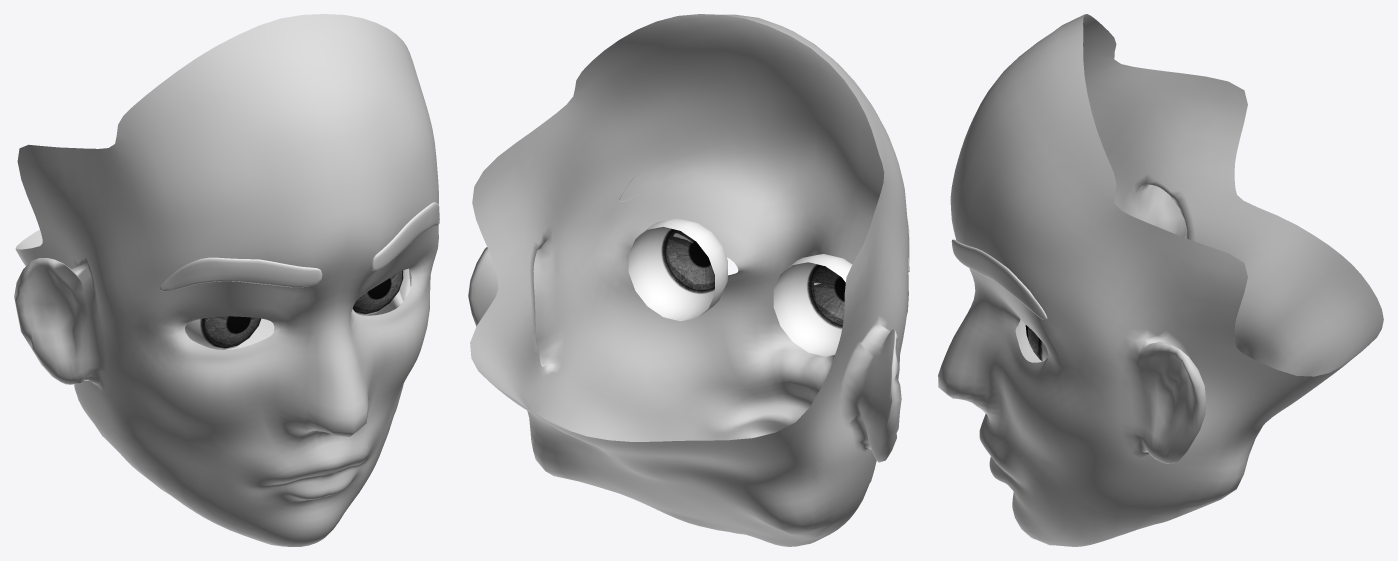
The model's file is male_head_angry.fbx.
3 views of the same model, side by side, from view 1: azimuth 30°, elevation 25°; view 2: azimuth 150°, elevation 25°; view 3: azimuth 270°, elevation 25° (orthographic). The views are drawn at different scales.
Parts seen in each view (by area): view 1: male_face_ur, eyeball_right_ur, eyeball_left_ur; view 2: male_face_ur, eyeball_left_ur, eyeball_right_ur; view 3: male_face_ur.
Part boxes in pixels (bbox=[...]): male_face_ur: bbox=[14, 14, 439, 546]; eyeball_right_ur: bbox=[185, 316, 261, 349]; eyeball_left_ur: bbox=[352, 270, 404, 315]; male_face_ur: bbox=[468, 14, 909, 546]; eyeball_left_ur: bbox=[628, 218, 727, 321]; eyeball_right_ur: bbox=[773, 254, 852, 356]; male_face_ur: bbox=[938, 14, 1383, 546].
Size of the model in its own units: 68.97 by 80.97 by 65.07.
